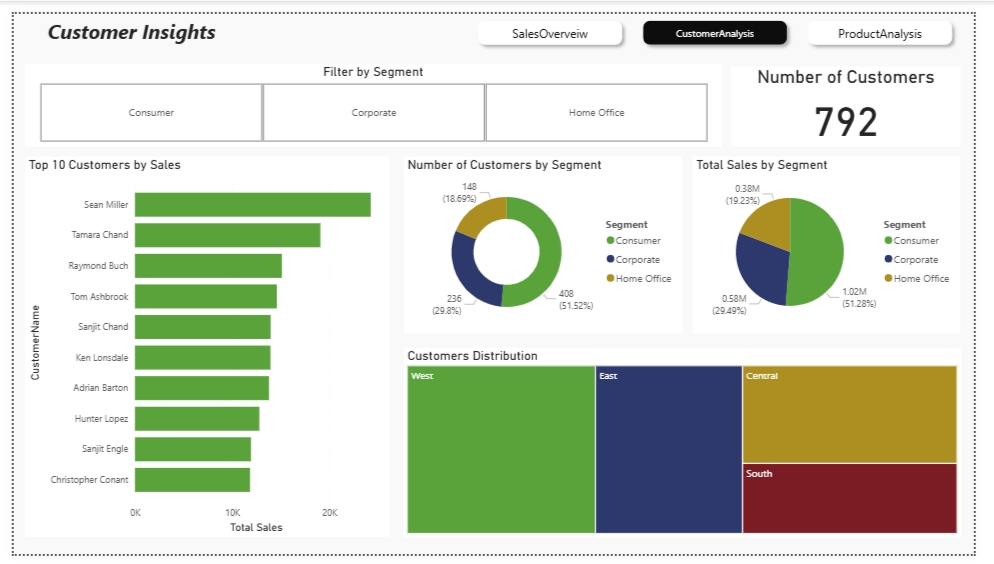

The dashboard page shown, as its layout file describes it:
{"tool":"powerbi","page":{"name":"CustomerAnalysis","canvas":[1280,720],"ordinal":1},"visuals":[{"type":"textbox","box":[0,0,1280,67.1],"z":0},{"type":"barChart","title":"Top 10 Customers by Sales","fields":{"Category":["DimCustomers.CustomerName"],"Y":["FactOrders.Sales"]},"box":[14.3,190,485.7,507.1],"z":1000},{"type":"card","title":"Number of Customers","fields":{"Values":["DimCustomers.CustomerKey"]},"box":[957.1,70,305.7,107.1],"z":2000},{"type":"donutChart","title":"Number of Customers by Segment","fields":{"Category":["DimCustomers.Segment"],"Y":["DimCustomers.CustomerID"]},"box":[520,190,371.4,235.7],"z":3000},{"type":"treemap","title":"Customers Distribution","fields":{"Group":["DimCustomers.Region Hierarchy.Region","DimCustomers.Region Hierarchy.Country","DimCustomers.Region Hierarchy.City"],"Values":["DimCustomers.CustomerID"]},"box":[520,444.3,742.9,252.9],"z":4000},{"type":"pieChart","fields":{"Category":["DimCustomers.Segment"],"Y":["FactOrders.Sales"]},"box":[905.7,190,357.1,235.7],"z":5000},{"type":"slicer","title":"Filter by Segment","fields":{"Values":["DimCustomers.Segment"]},"box":[14.3,67.1,928.6,110],"z":6000},{"type":"pageNavigator","box":[610,0,652.9,50],"z":7000}]}

Visuals, with their boxes in screenshot pixels (x1, y1, x2, y2), scaled from the page's 1280x720 canvas onto the 994x564 screenshot:
textbox: {"left": 0, "top": 0, "right": 993, "bottom": 53}
"Top 10 Customers by Sales" barChart: {"left": 11, "top": 149, "right": 388, "bottom": 546}
"Number of Customers" card: {"left": 743, "top": 55, "right": 981, "bottom": 139}
"Number of Customers by Segment" donutChart: {"left": 404, "top": 149, "right": 692, "bottom": 333}
"Customers Distribution" treemap: {"left": 404, "top": 348, "right": 981, "bottom": 546}
pieChart - DimCustomers.Segment x FactOrders.Sales: {"left": 703, "top": 149, "right": 981, "bottom": 333}
"Filter by Segment" slicer: {"left": 11, "top": 53, "right": 732, "bottom": 139}
pageNavigator: {"left": 474, "top": 0, "right": 981, "bottom": 39}
